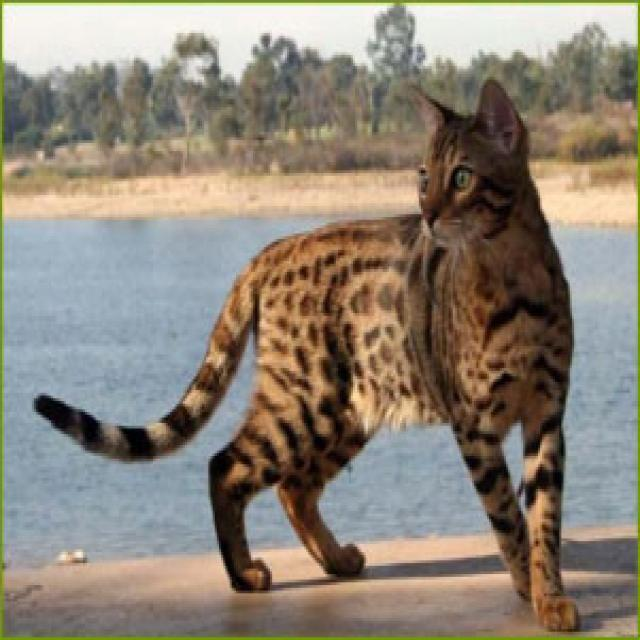Bengal: (408, 79, 538, 254)
